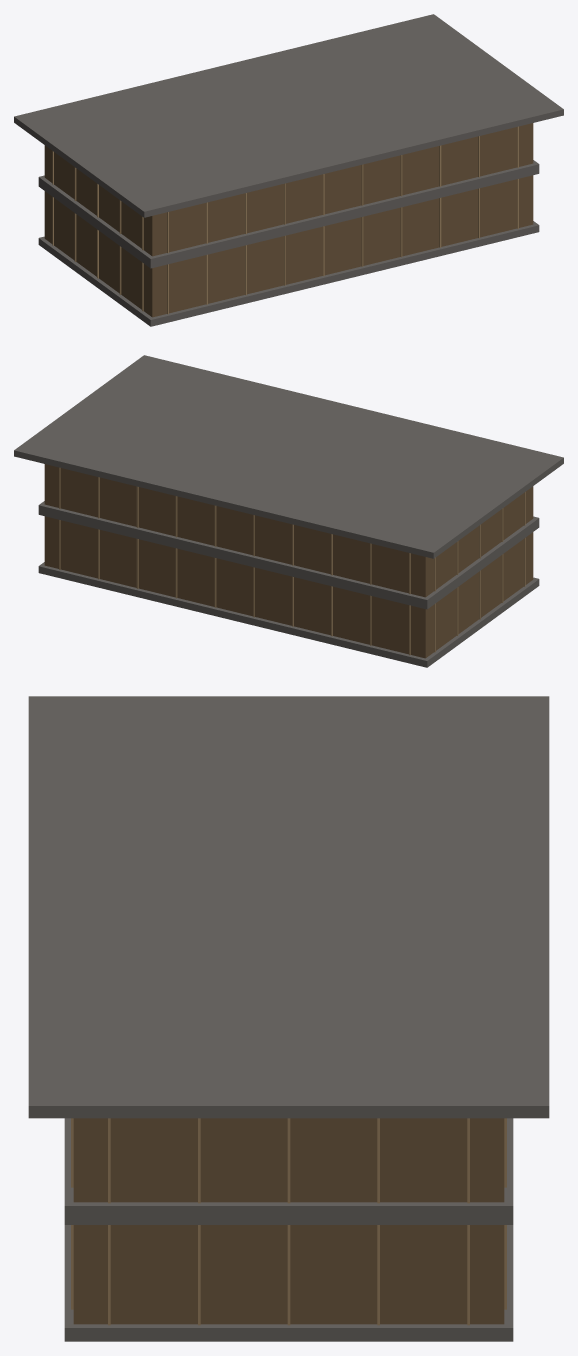
The model's file is pav_bronze_2f.glb.
3 renders of one model, top to bottom at view 1: azimuth 30°, elevation 25°; view 2: azimuth 150°, elevation 25°; view 3: azimuth 270°, elevation 25°, orthographic. The views are drawn at different scales.
Visible parts, largest first — view 1: pav_bronze_2f; view 2: pav_bronze_2f; view 3: pav_bronze_2f.
Boxes of the visible parts, x1,y1,x2,y2 form: pav_bronze_2f: (14,14,563,326); pav_bronze_2f: (14,355,563,667); pav_bronze_2f: (28,696,549,1341).
Bounding box in the file's own units: 32.4 × 9.25 × 17.4.
